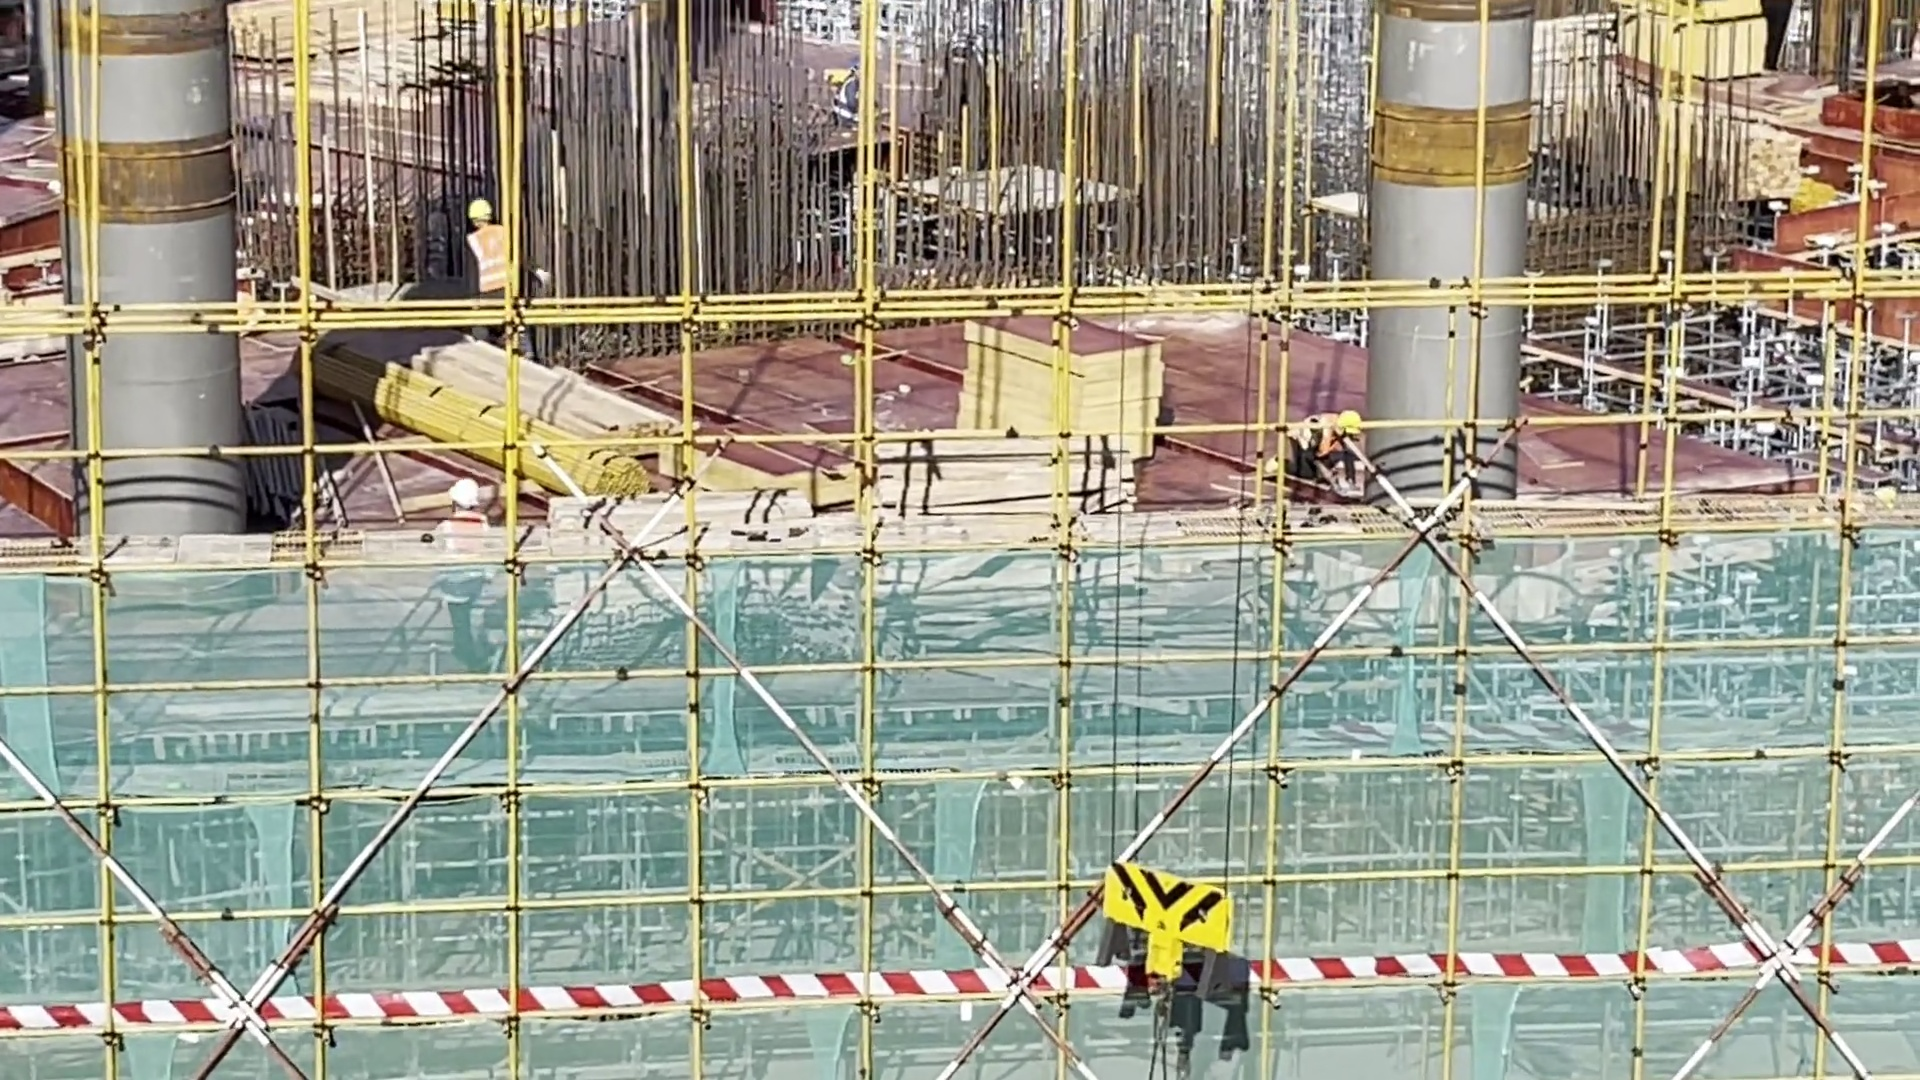board: (955, 306, 1166, 445)
helmet: (470, 199, 491, 221)
hook: (1100, 861, 1239, 984)
person: (443, 193, 521, 320), (1275, 404, 1371, 488)
vest: (465, 227, 512, 292)
wood: (392, 327, 689, 503), (858, 426, 1154, 514), (1724, 139, 1808, 206)
